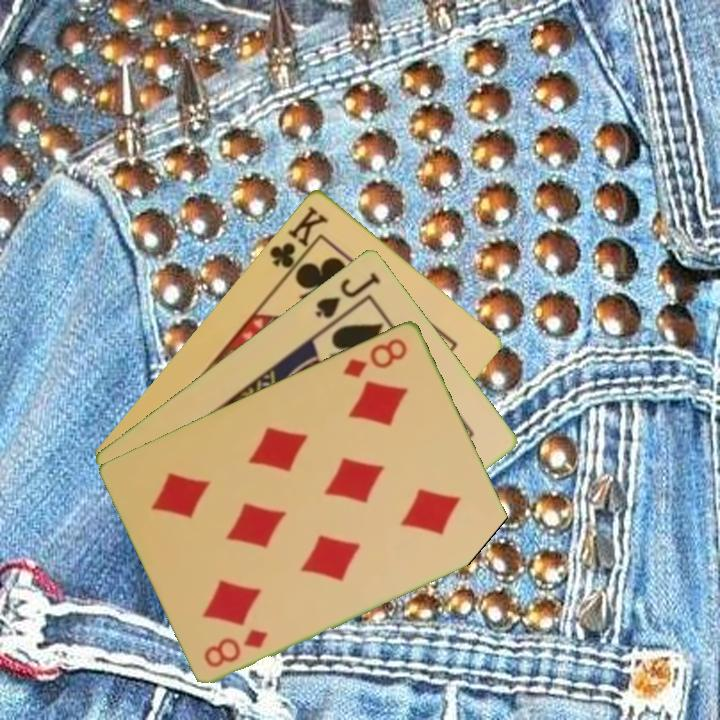8d: (340, 333, 411, 380), (200, 624, 271, 670)
Js: (311, 268, 384, 321)
Kc: (265, 201, 332, 280)
